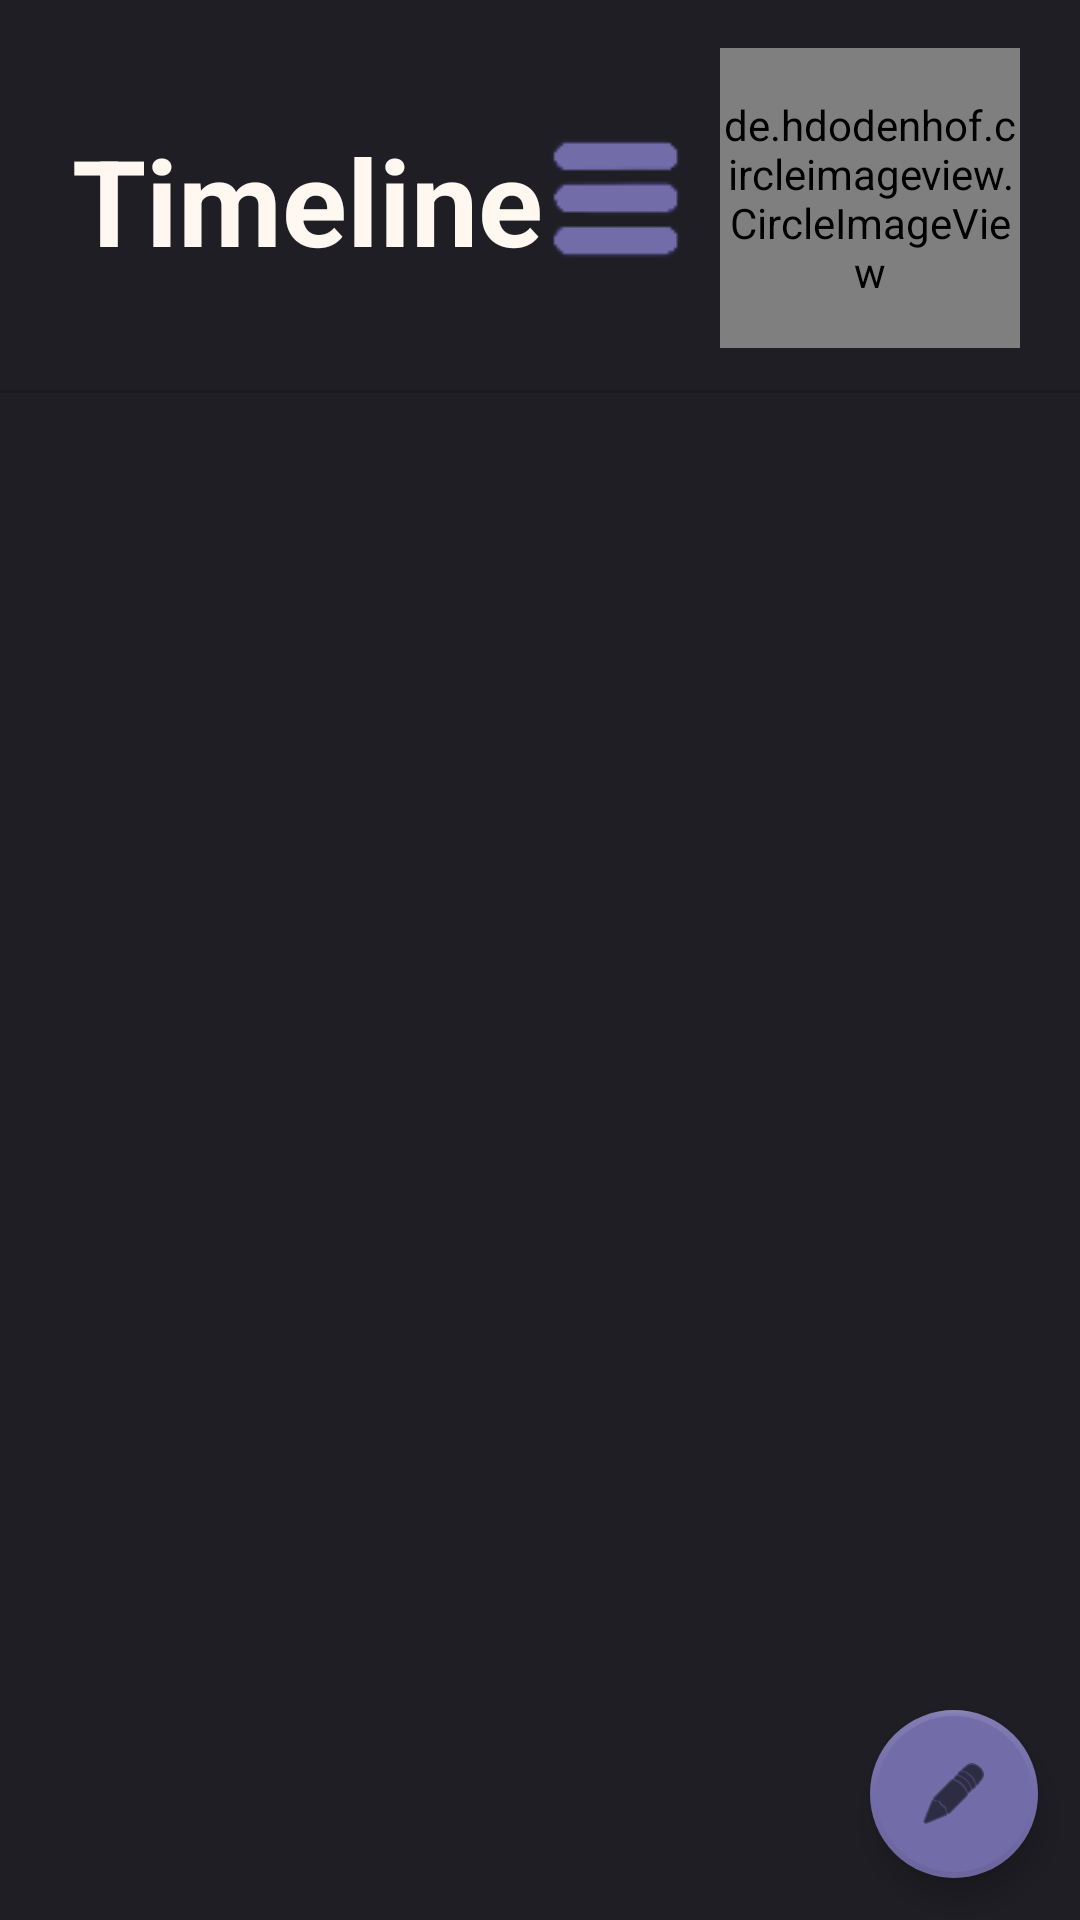

Where icons sit on this 1080px x 1920px app screen, as (x1, y1, x2, y2):
edit: (870, 1710, 1038, 1878)
